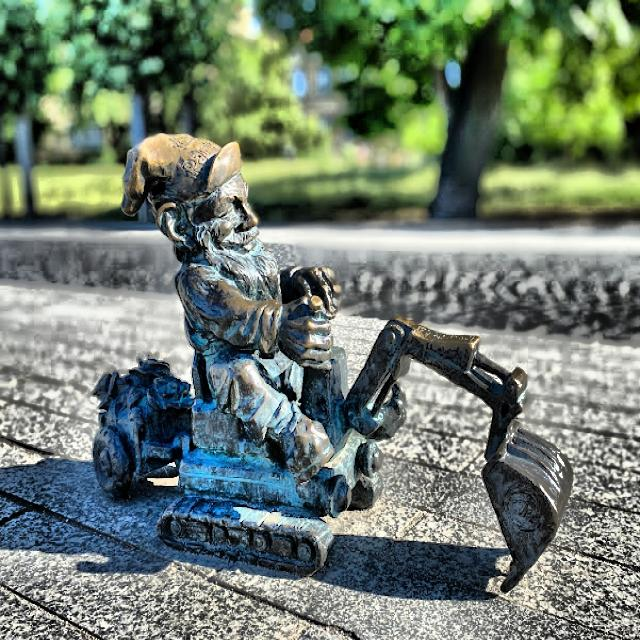Koparkus: (92, 134, 572, 590)
